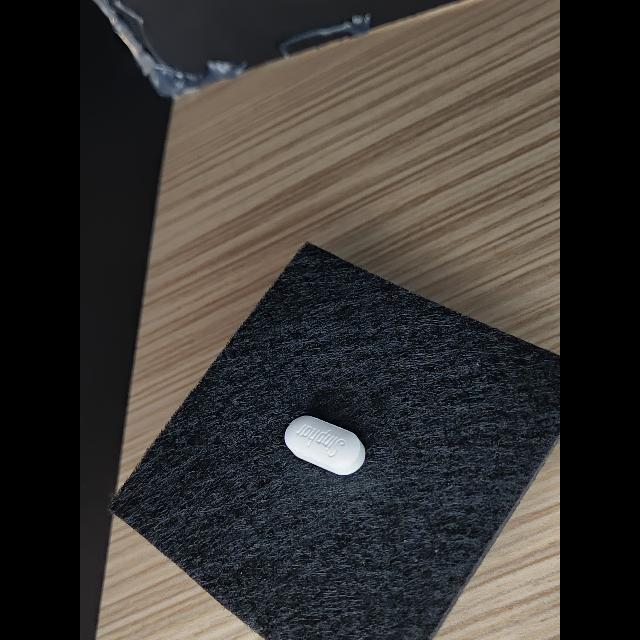Intact Pill: (284, 415, 365, 475)
